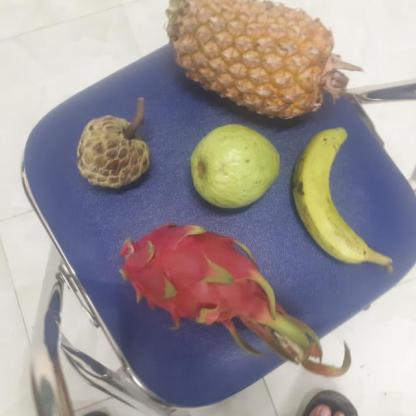annona: (74, 112, 150, 191)
banana: (287, 126, 378, 266)
guava: (186, 124, 283, 210)
pitaya: (114, 224, 274, 328)
